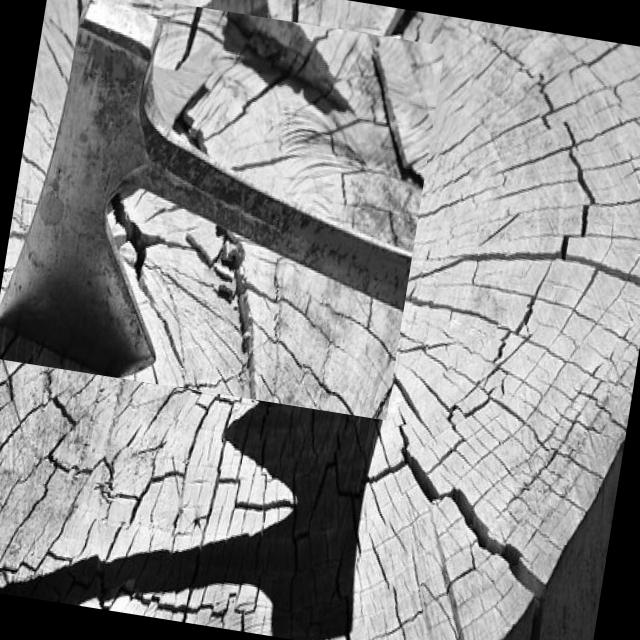Axe: (0, 0, 412, 378)
